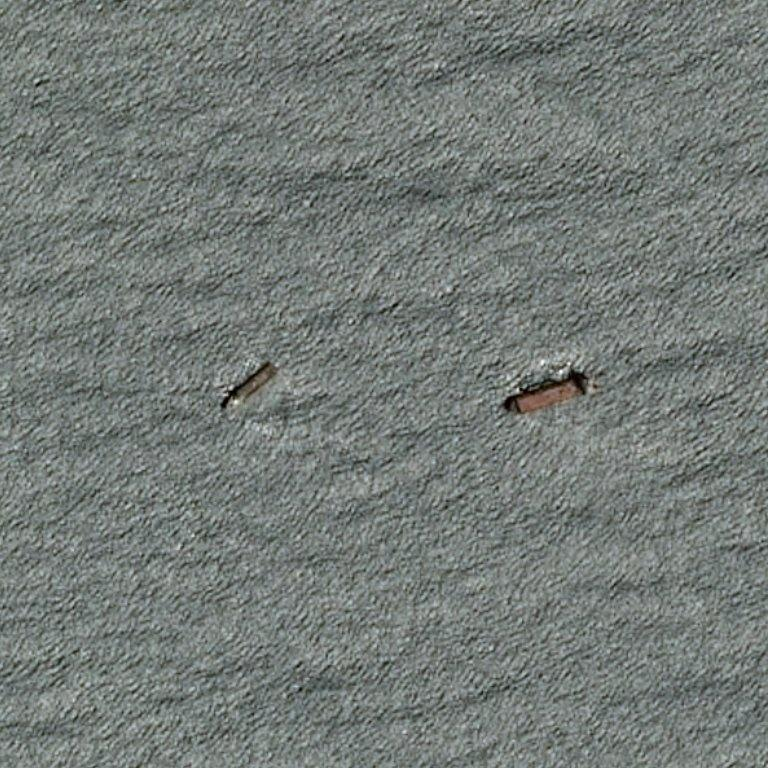ship: (227, 363, 277, 407), (536, 366, 540, 410), (576, 377, 583, 382), (506, 407, 512, 412), (581, 392, 586, 398), (239, 385, 246, 389), (1, 390, 6, 394), (272, 366, 276, 369)
